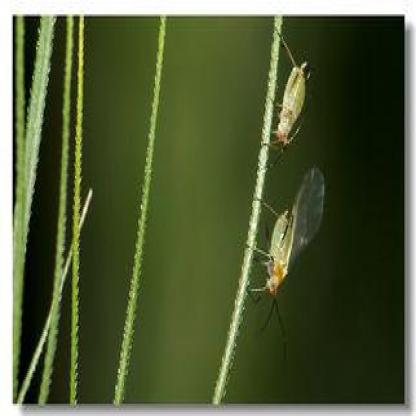aphid: (247, 162, 327, 339), (264, 37, 318, 152)
